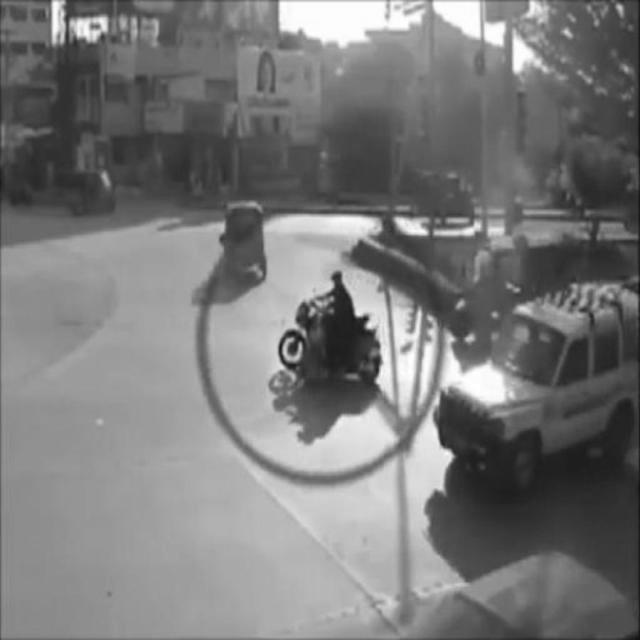vehicle: (438, 279, 636, 499), (277, 272, 385, 382), (226, 204, 268, 282)
